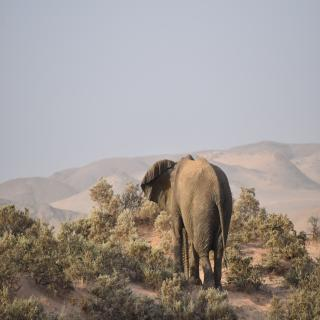Elephant: (142, 154, 236, 296)
